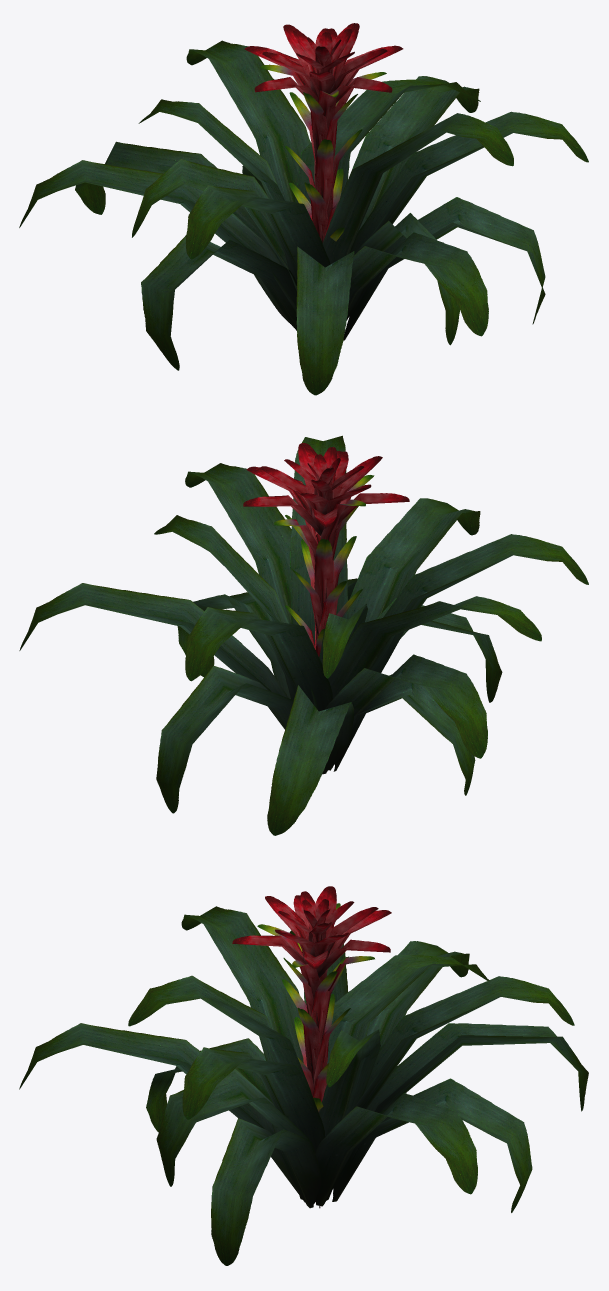
Rendered from trop_shrub_02.obj.
3 views of the same model, one above another, from view 1: azimuth 30°, elevation 25°; view 2: azimuth 150°, elevation 25°; view 3: azimuth 270°, elevation 25° (orthographic). The views are drawn at different scales.
Visible parts, largest first — view 1: trop_shrub_02; view 2: trop_shrub_02; view 3: trop_shrub_02.
Part boxes in pixels (left/top/right/bottom): trop_shrub_02: left=19, top=23, right=588, bottom=395; trop_shrub_02: left=19, top=435, right=588, bottom=835; trop_shrub_02: left=19, top=886, right=588, bottom=1265.
Bounding box in the file's own units: 138 × 85.15 × 145.
